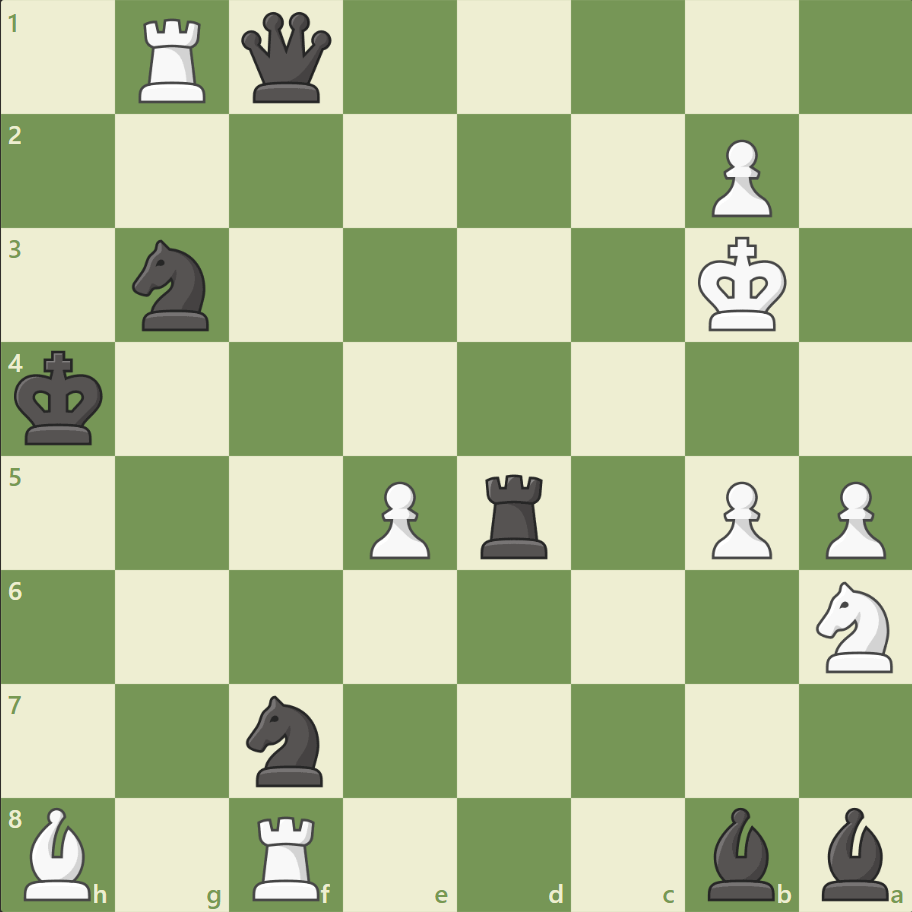B: (17, 801, 101, 904)
K: (692, 231, 792, 339)
N: (806, 575, 903, 677)
P: (701, 473, 776, 564), (701, 132, 776, 223), (815, 473, 889, 564), (361, 473, 435, 564)
R: (246, 806, 329, 904), (133, 12, 215, 109)
b: (812, 801, 896, 904), (698, 801, 782, 904)
k: (11, 344, 111, 452)
n: (124, 234, 222, 337), (238, 688, 335, 791)
q: (237, 9, 336, 108)
r: (473, 466, 556, 563)
